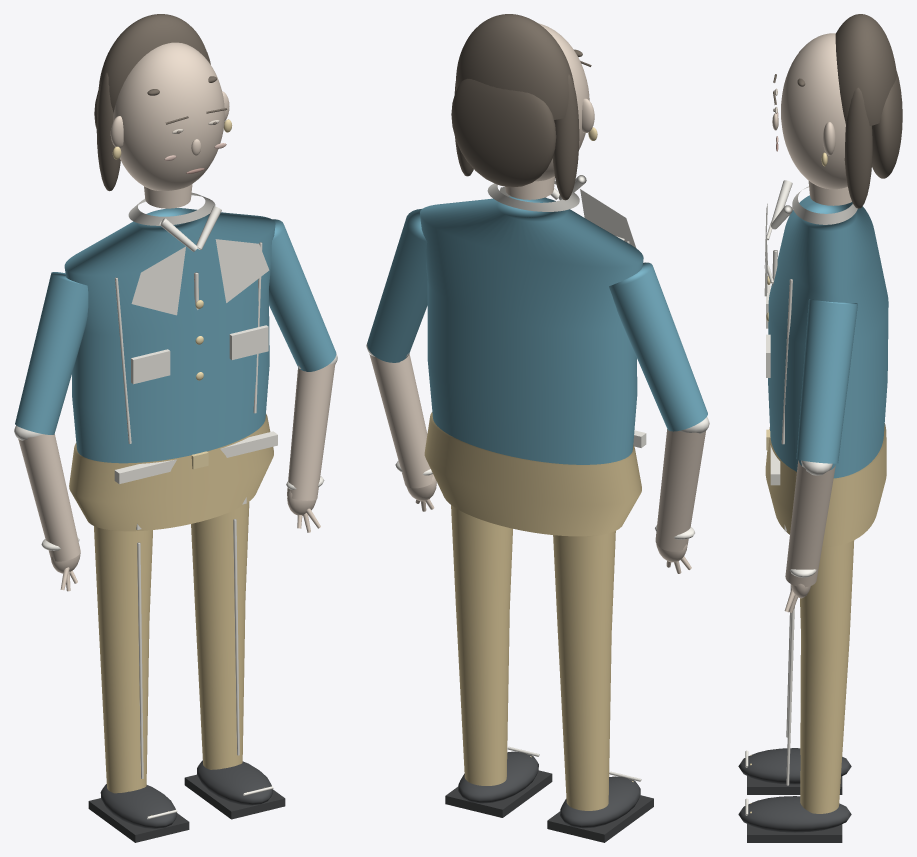
File: female.glb
The picture shows the model from 3 angles, left to right: view 1: azimuth 30°, elevation 25°; view 2: azimuth 150°, elevation 25°; view 3: azimuth 270°, elevation 25°; orthographic projection. The views are drawn at different scales.
Visible parts, largest first — view 1: StyleFit Parametric Digital Human; view 2: StyleFit Parametric Digital Human; view 3: StyleFit Parametric Digital Human.
Part boxes in pixels (x1,y1,x2,y2): StyleFit Parametric Digital Human: [14, 14, 337, 842]; StyleFit Parametric Digital Human: [366, 14, 709, 842]; StyleFit Parametric Digital Human: [738, 14, 902, 842].
Bounding box in the file's own units: 0.9376 × 2.14 × 0.4058.
